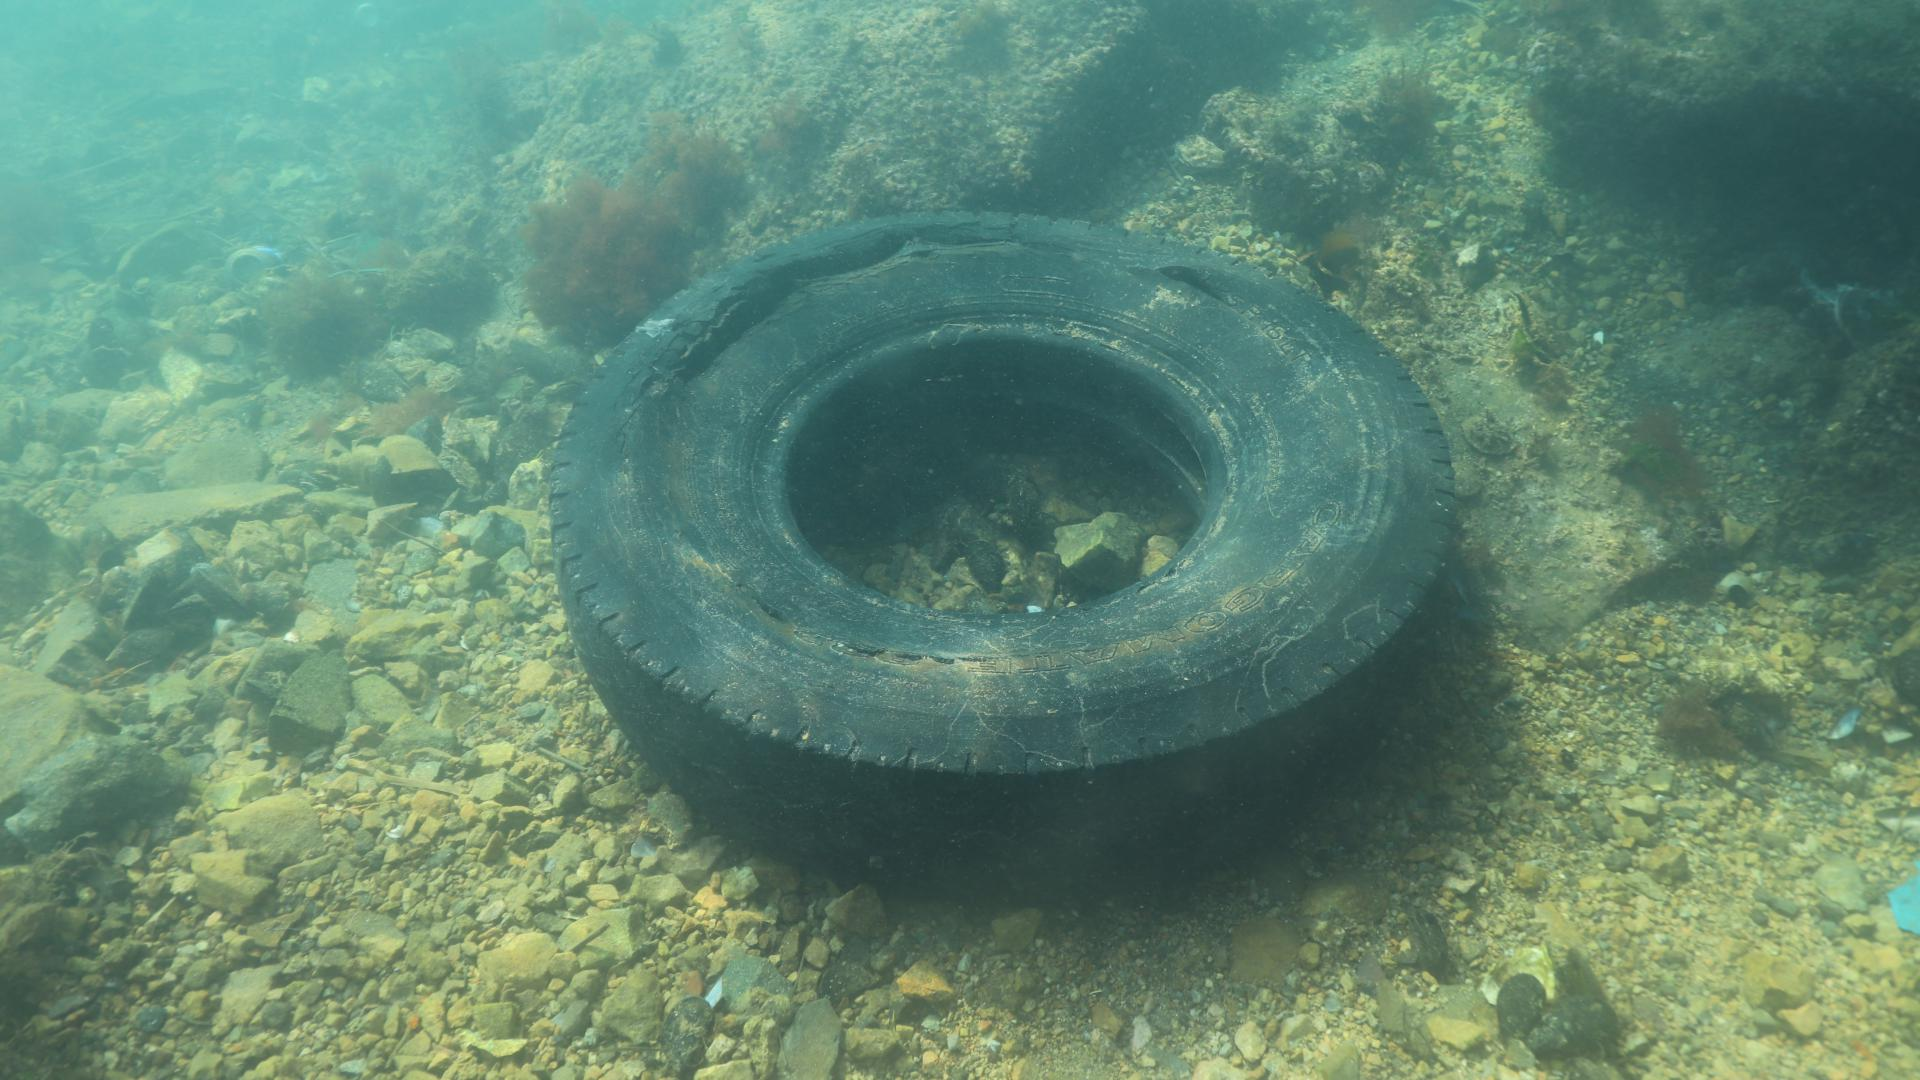tire: (546, 204, 1456, 897)
